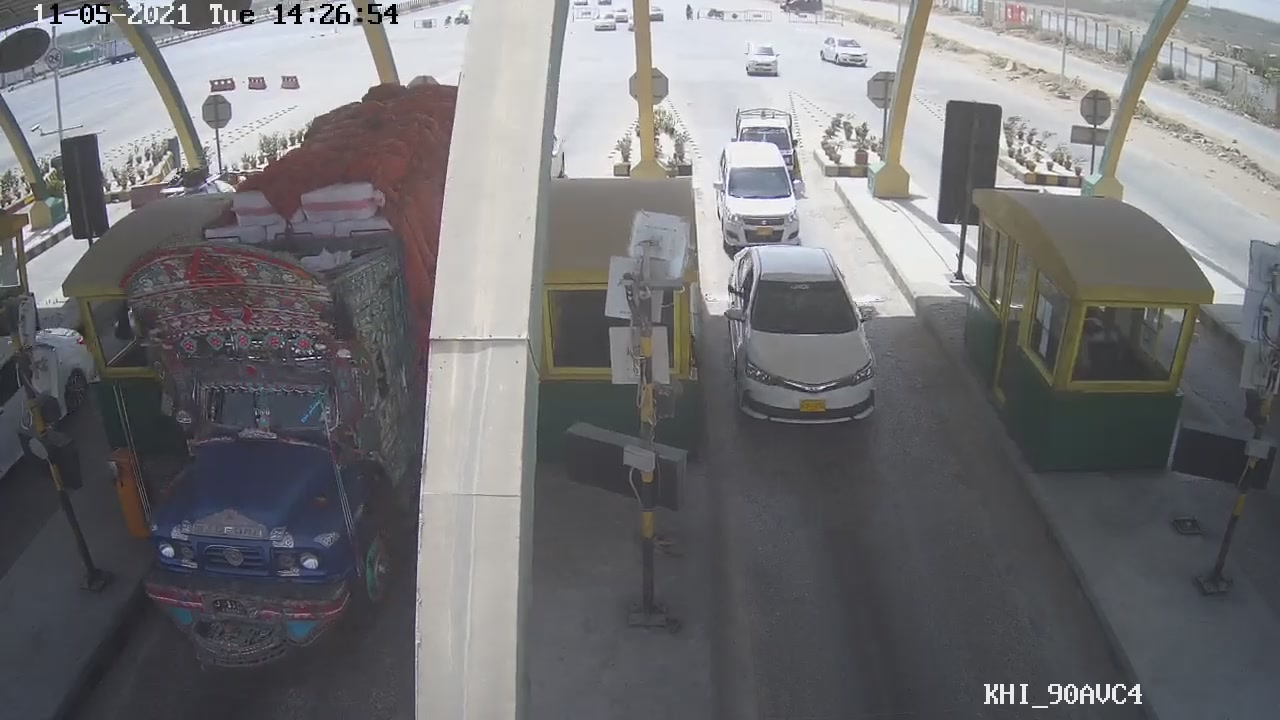F1: (715, 241, 888, 433)
